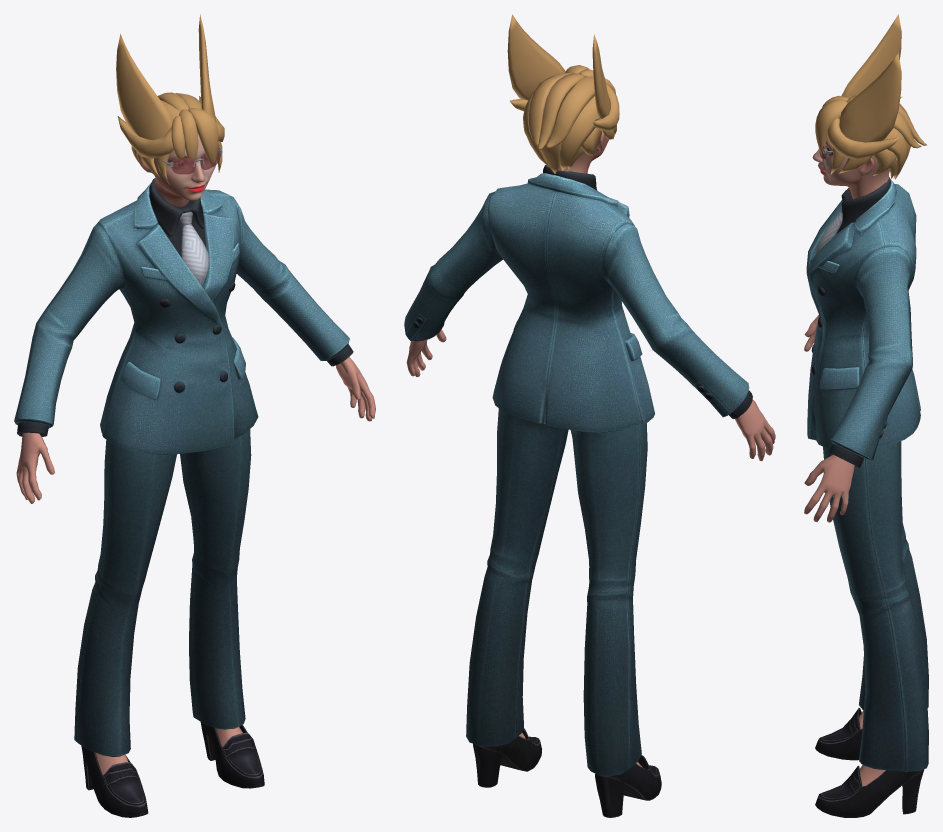
The model's file is คนละคน.glb.
3 renders of one model, left to right at view 1: azimuth 30°, elevation 25°; view 2: azimuth 150°, elevation 25°; view 3: azimuth 270°, elevation 25°, orthographic. The views are drawn at different scales.
Visible parts, largest first — view 1: Wolf3D_Outfit_Top, Wolf3D_Outfit_Bottom, Wolf3D_Hair, Wolf3D_Outfit_Footwear, Wolf3D_Body, Wolf3D_Head; view 2: Wolf3D_Outfit_Top, Wolf3D_Outfit_Bottom, Wolf3D_Hair, Wolf3D_Outfit_Footwear, Wolf3D_Body; view 3: Wolf3D_Outfit_Top, Wolf3D_Outfit_Bottom, Wolf3D_Hair, Wolf3D_Outfit_Footwear, Wolf3D_Body, Wolf3D_Head.
Boxes of the visible parts, box(x1,y1,x2,y2) form: Wolf3D_Outfit_Top: box(14, 178, 353, 454); Wolf3D_Outfit_Bottom: box(74, 429, 251, 756); Wolf3D_Hair: box(116, 14, 224, 184); Wolf3D_Outfit_Footwear: box(81, 722, 264, 817); Wolf3D_Body: box(16, 357, 375, 775); Wolf3D_Head: box(137, 133, 215, 206); Wolf3D_Outfit_Top: box(404, 165, 752, 432); Wolf3D_Outfit_Bottom: box(466, 408, 647, 776); Wolf3D_Hair: box(507, 14, 619, 173); Wolf3D_Outfit_Footwear: box(473, 728, 661, 817); Wolf3D_Body: box(406, 329, 775, 767); Wolf3D_Outfit_Top: box(806, 177, 920, 467); Wolf3D_Outfit_Bottom: box(823, 441, 928, 771); Wolf3D_Hair: box(815, 14, 926, 179); Wolf3D_Outfit_Footwear: box(815, 708, 924, 817); Wolf3D_Body: box(804, 315, 885, 786); Wolf3D_Head: box(812, 137, 889, 198).
Size of the model in its own units: 0.9279 by 1.91 by 0.2892.
9 materials, 9 textured.
